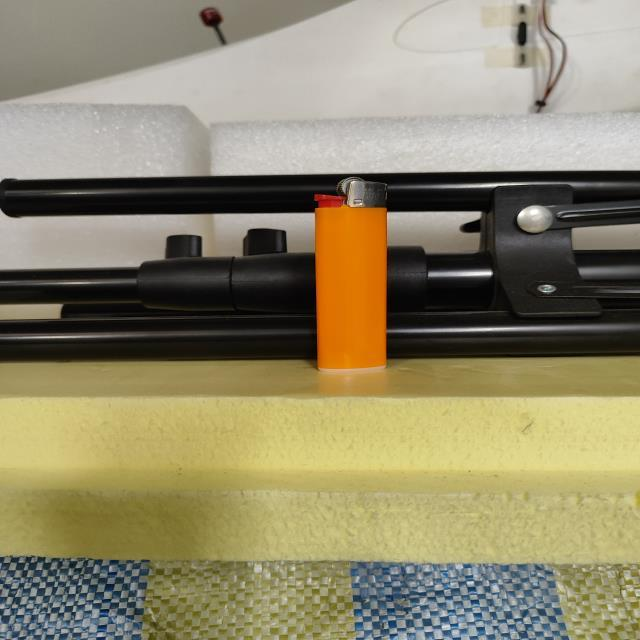lighter: (316, 178, 386, 371)
